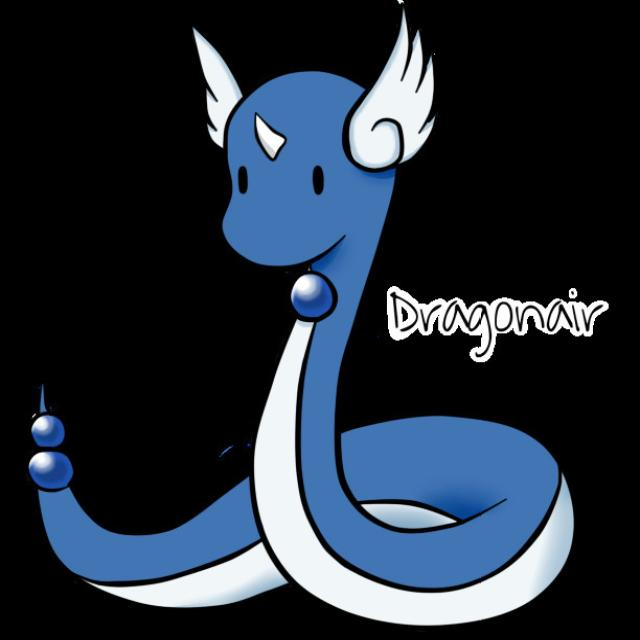Dragonair: (147, 30, 577, 614)
